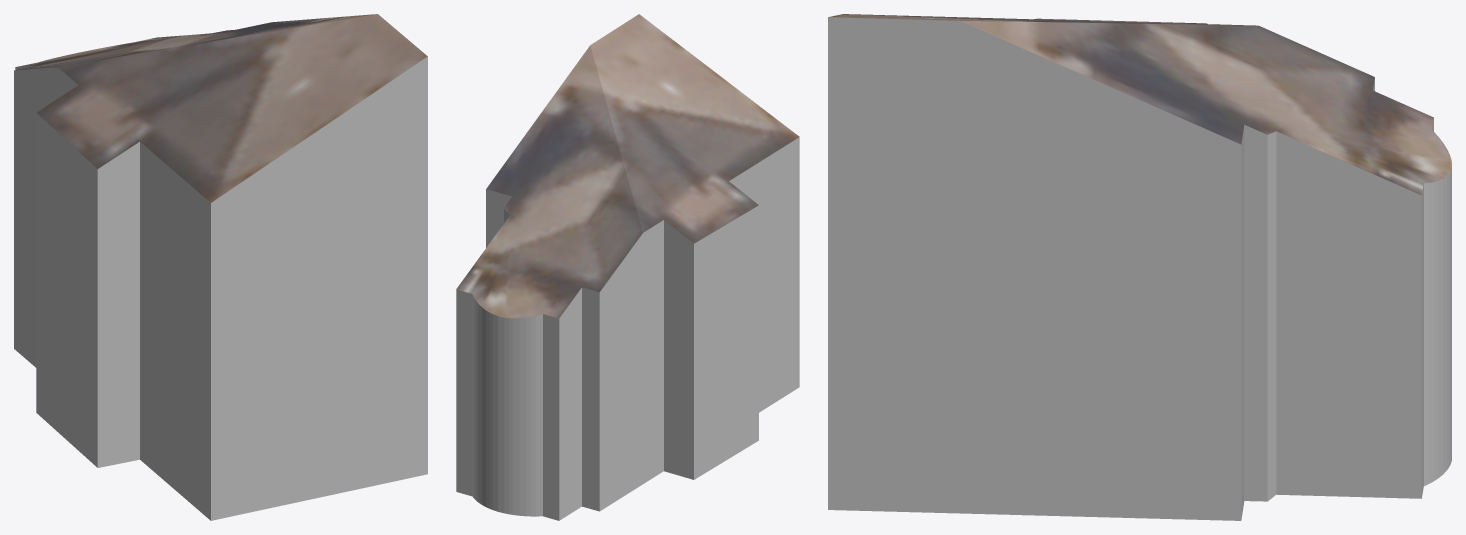
Rendered from DEBW_0010007Tx7w.gltf.
The picture shows the model from 3 angles, left to right: view 1: azimuth 30°, elevation 25°; view 2: azimuth 150°, elevation 25°; view 3: azimuth 270°, elevation 25°; orthographic projection. The views are drawn at different scales.
Visible parts, largest first — view 1: Z_UP; view 2: Z_UP; view 3: Z_UP.
Boxes of the visible parts, x1,y1,x2,y2 form: Z_UP: (14,14,427,520); Z_UP: (456,14,799,520); Z_UP: (828,14,1451,520).
Bounding box in the file's own units: 10.35 × 15.88 × 18.22.
2 materials, 1 textured.
